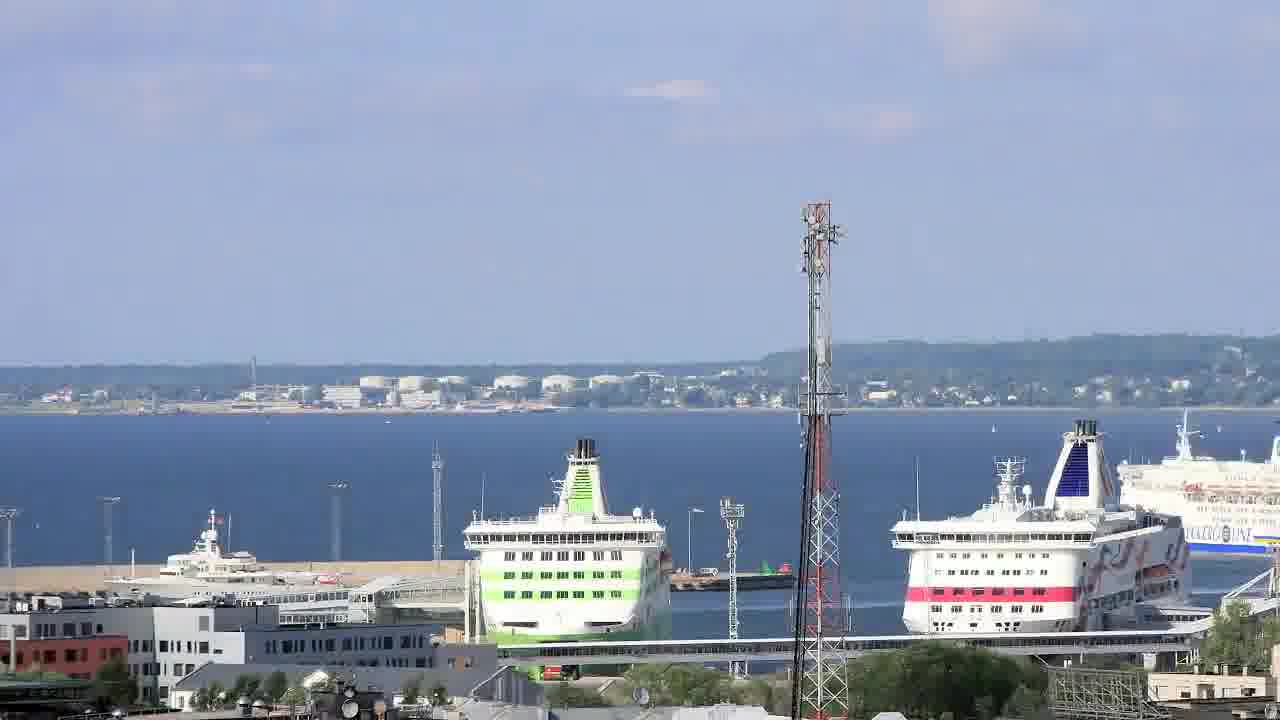type-3: (868, 415, 1225, 638), (436, 434, 694, 670), (80, 510, 385, 620), (1109, 389, 1279, 571)
